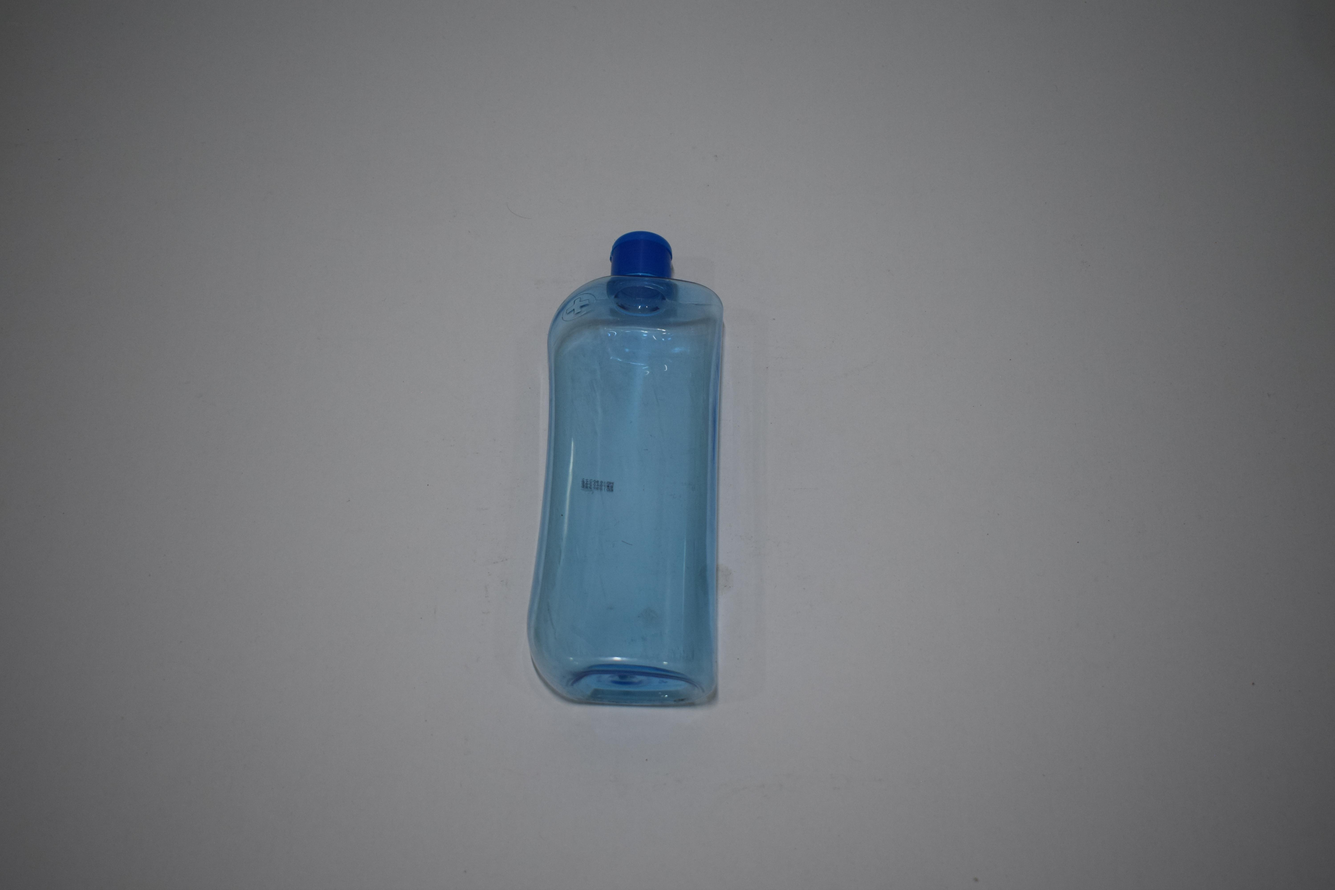plastic: (526, 232, 728, 712)
